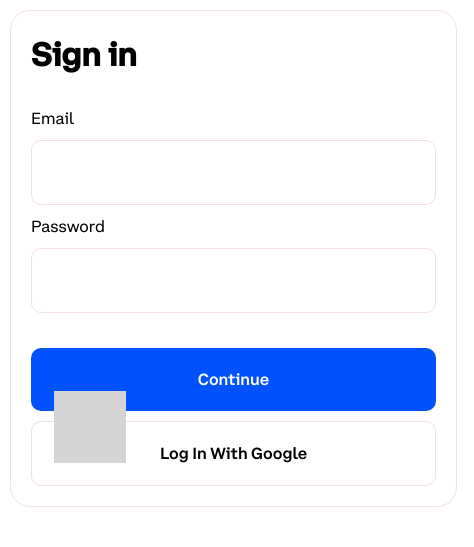
it: should render error message when login without email
The image size is (474, 547).
Click the button with test id "login-button". click: [234, 380]
box: [31,348,436,411]
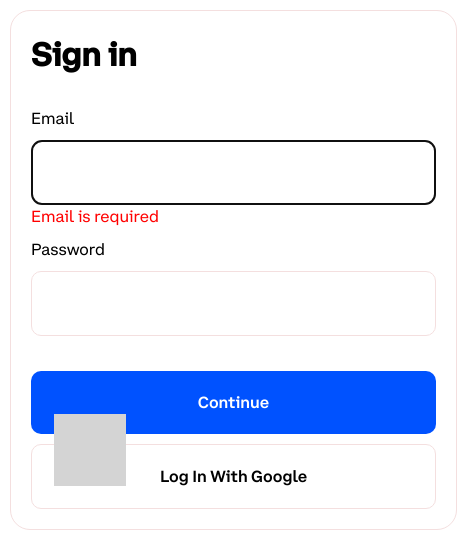
Check: the text "Email is required" is shown, box [31,206,159,226]
